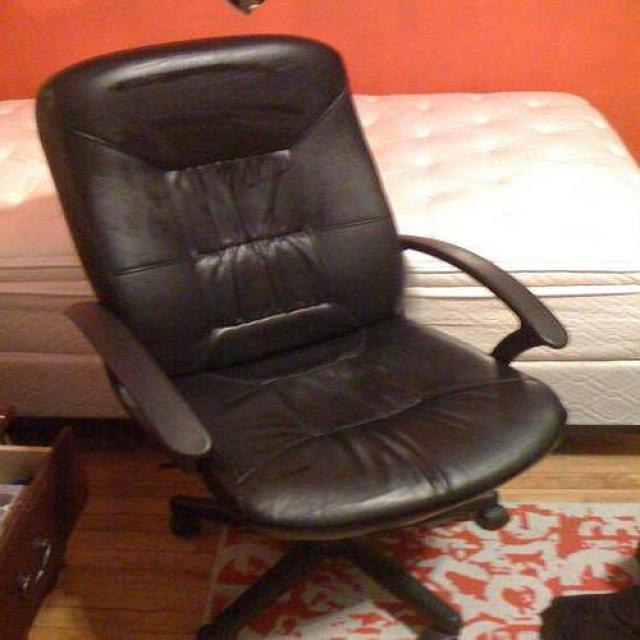swivelchair: (35, 35, 570, 640)
